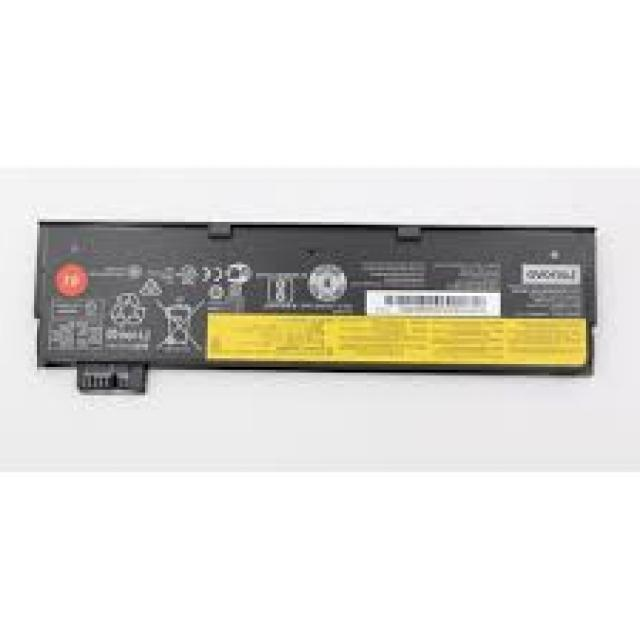battery: (31, 222, 600, 398)
